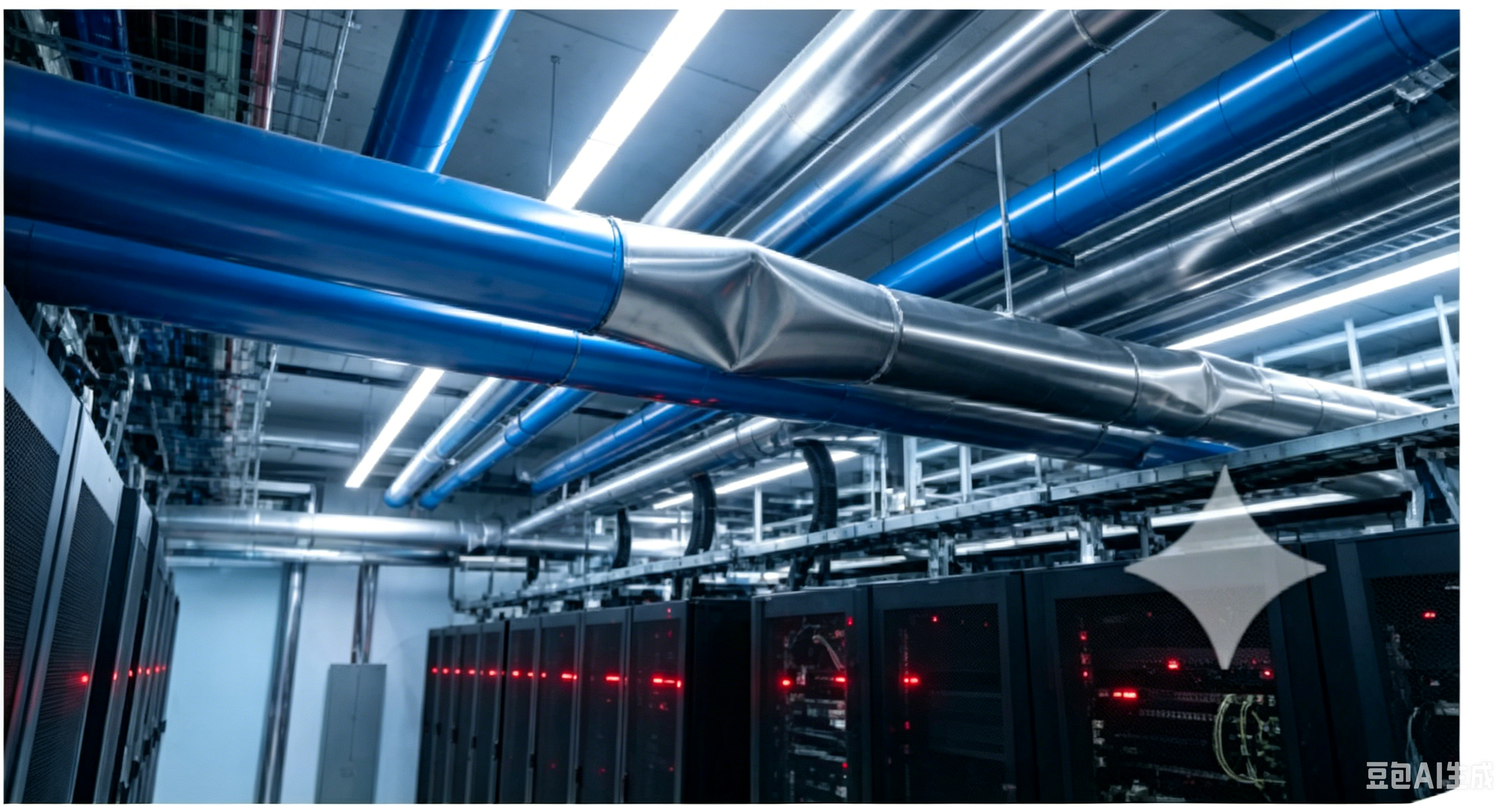Leakage: (701, 238, 795, 372)
